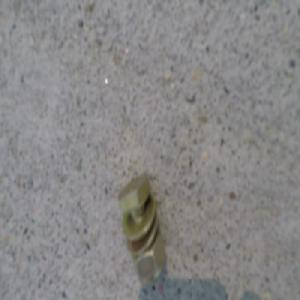BoltNutSet: (119, 173, 166, 278)
